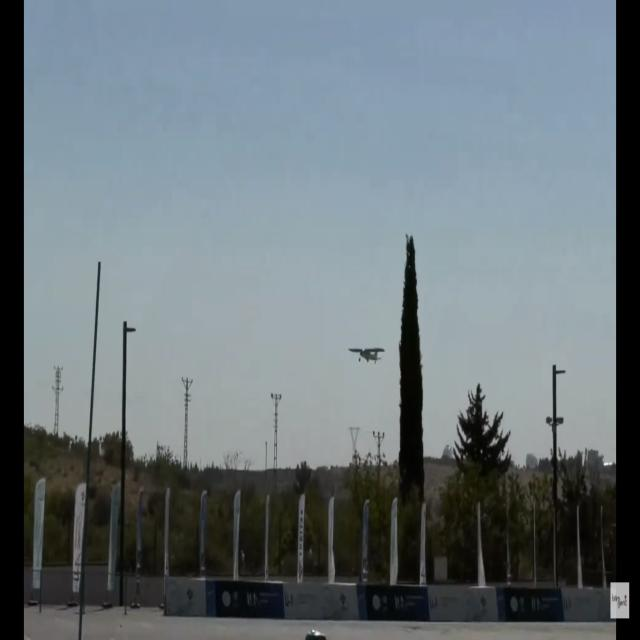iha: (346, 345, 384, 367)
